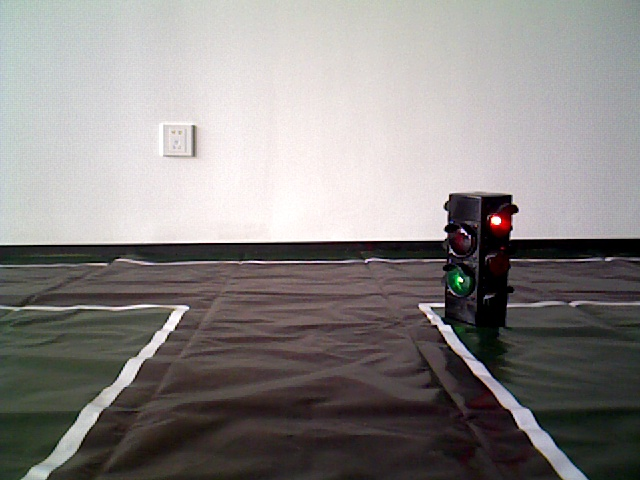red: (444, 193, 506, 320)
